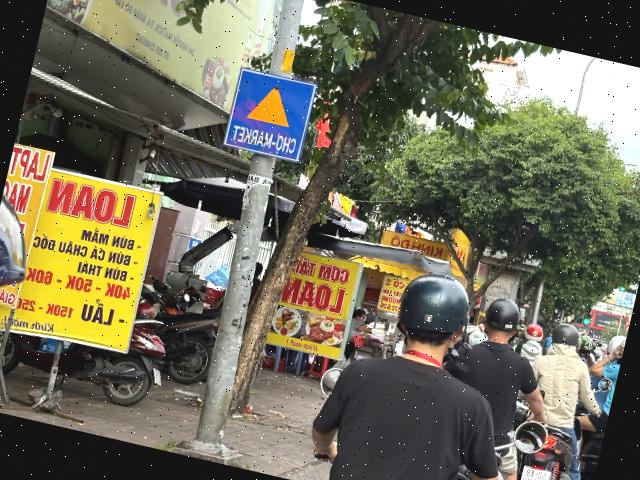khu-vuc-cho-phia-truoc: (221, 66, 317, 162)
